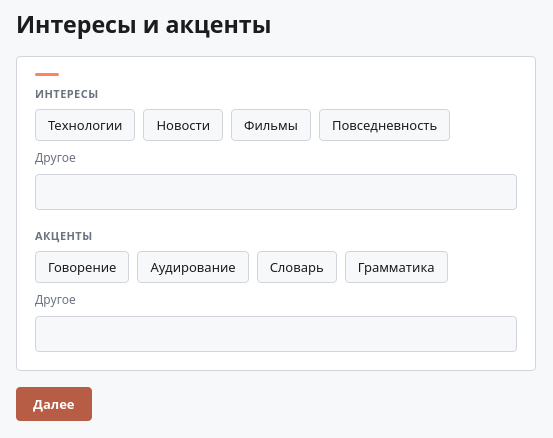
Scenario: OnboardingWizard › interests step PATCHes chips and advances
The width and height of the screenshot is (553, 438).
Click the button with class "chip" showing "Технологии": (85, 125) [35,109,135,141]
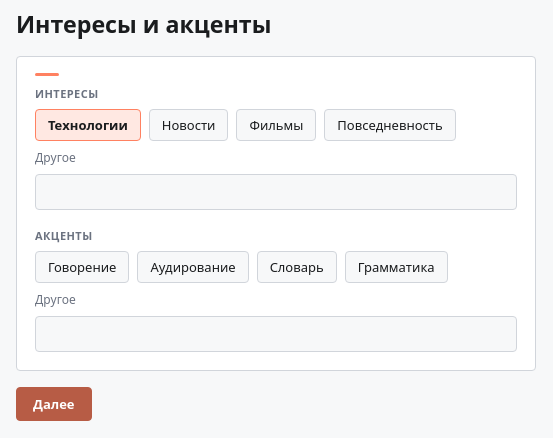
Click the button with class "chip" showing "Говорение": (82, 267) [35,251,129,283]
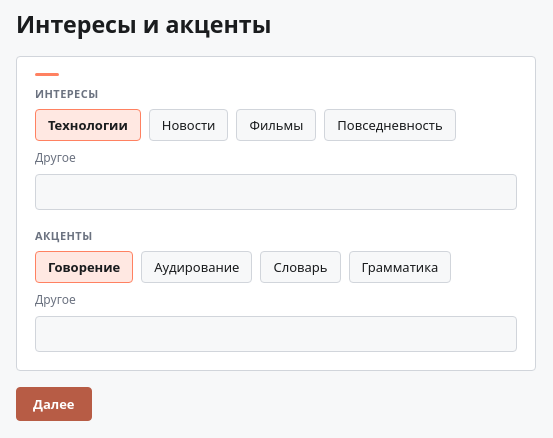
Click the button with test id "next-button": (54, 404) [16,387,92,421]
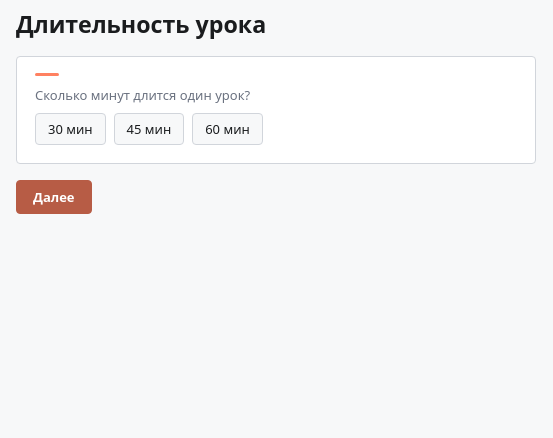
Now the element with test id "step-duration" is shown, box [16,56,536,164]
